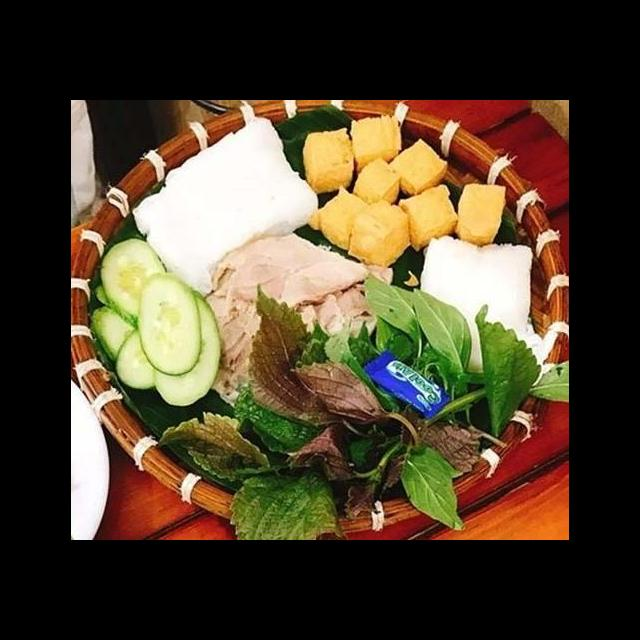bun: (124, 114, 320, 302), (412, 229, 556, 383)
bun dau: (90, 137, 569, 535)
dau hu: (305, 182, 418, 271), (385, 177, 466, 258), (296, 124, 365, 199), (380, 133, 456, 199), (449, 174, 510, 253), (344, 108, 409, 171), (350, 152, 407, 208)
thit heo: (192, 228, 398, 413)
